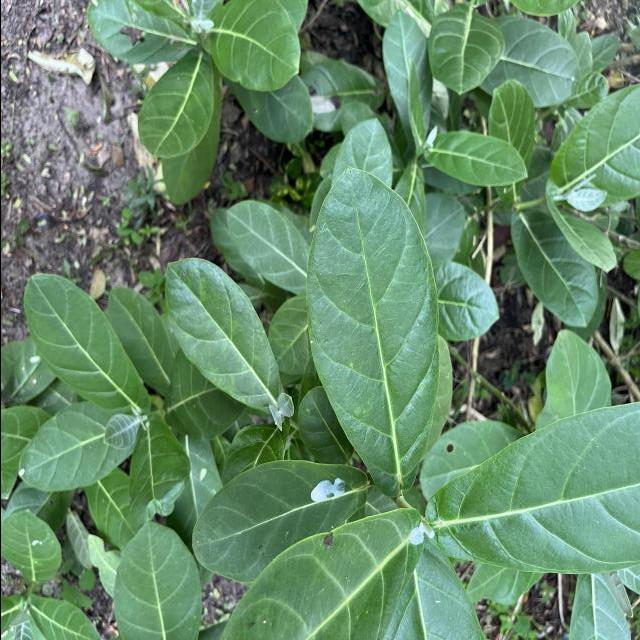Calotropis gigantea: (303, 164, 439, 502), (426, 399, 640, 577), (190, 456, 370, 584), (162, 254, 288, 416), (21, 271, 150, 420), (16, 401, 139, 494), (508, 208, 598, 329), (199, 0, 301, 93), (136, 47, 214, 160), (225, 198, 310, 296), (426, 0, 504, 96), (424, 130, 528, 188)
